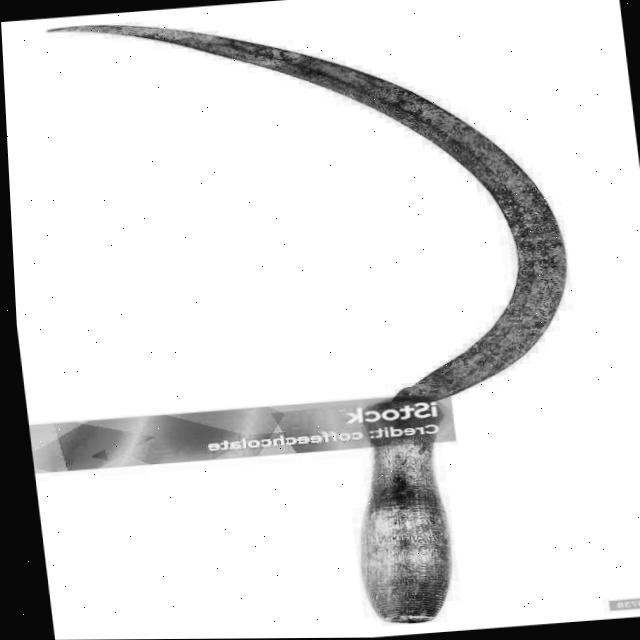celurit: (23, 18, 587, 634)
